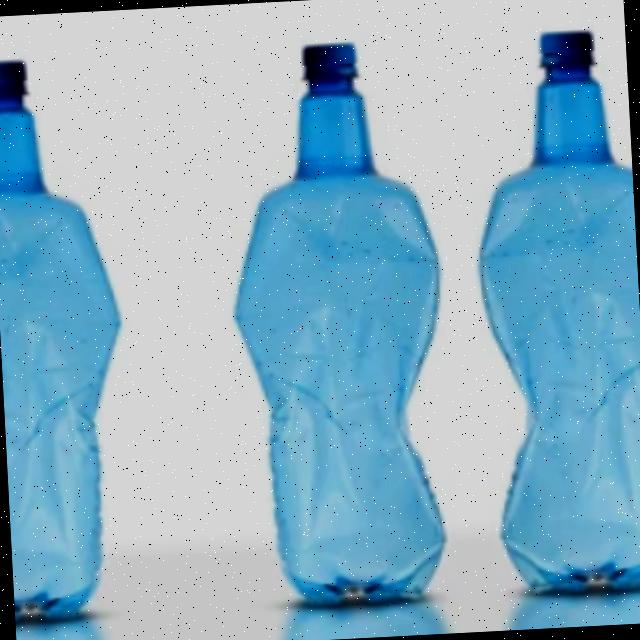Plastic: (201, 33, 468, 620), (459, 22, 640, 605), (0, 48, 156, 630)
